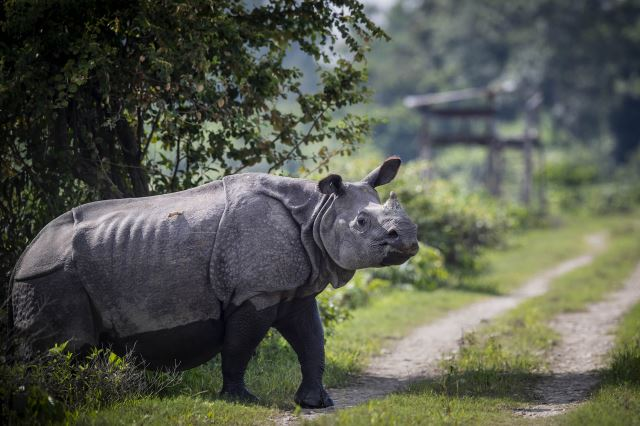Rhinoceros: (8, 146, 429, 412)
